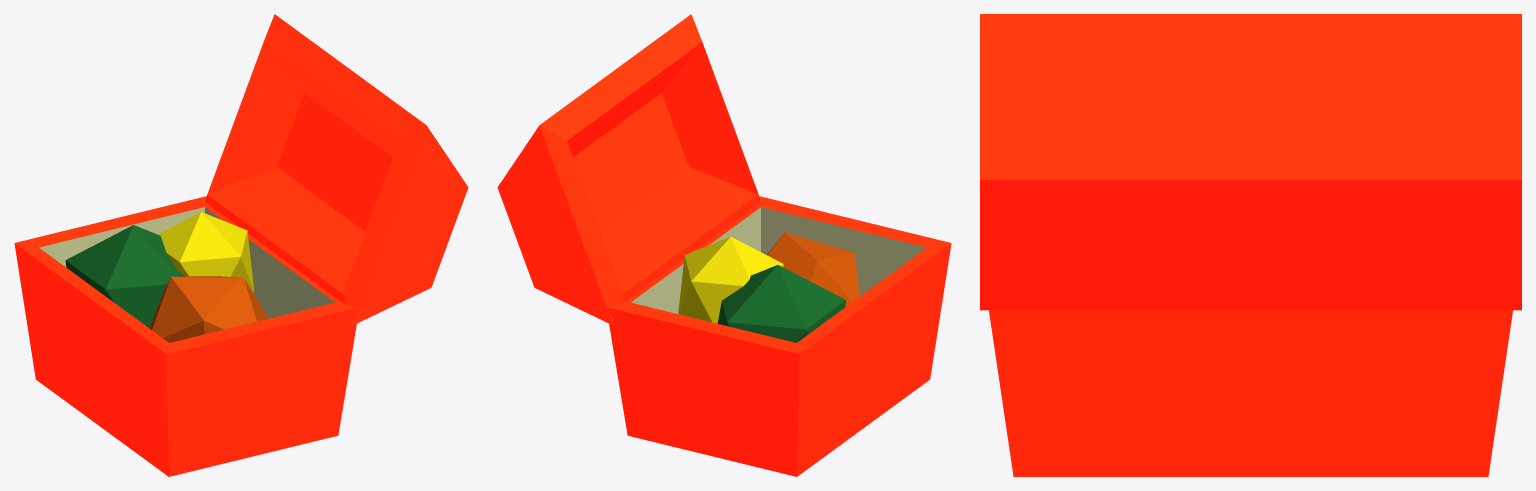
File: treasure-box.fbx
3 views of the same model, side by side, from view 1: azimuth 30°, elevation 25°; view 2: azimuth 150°, elevation 25°; view 3: azimuth 270°, elevation 25° (orthographic). The views are drawn at different scales.
Parts seen in each view (by area): view 1: Cube.102, Cylinder.023, Icosphere.002, Icosphere, Icosphere.001; view 2: Cube.102, Cylinder.023, Icosphere.002, Icosphere.001, Icosphere; view 3: Cylinder.023, Cube.102.
Part boxes in pixels (x1,y1,x2,y2): Cube.102: (14,196,358,476); Cylinder.023: (205,14,468,325); Icosphere.002: (65,225,184,327); Icosphere: (149,276,268,342); Icosphere.001: (158,212,254,292); Cube.102: (607,196,951,476); Cylinder.023: (497,14,760,325); Icosphere.002: (717,265,845,342); Icosphere.001: (678,236,783,323); Icosphere: (767,232,859,306); Cylinder.023: (980,14,1521,310); Cube.102: (989,310,1512,476).
Size of the model in its own units: 75.23 by 70.92 by 65.53.
